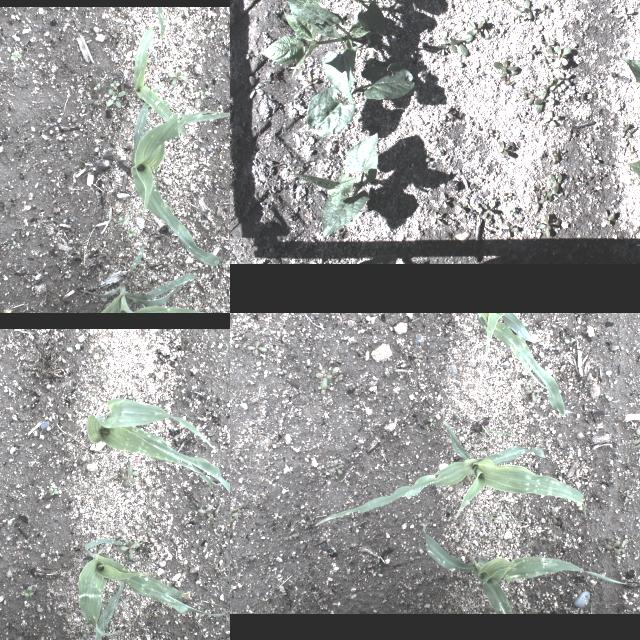crop: (316, 420, 588, 524), (424, 523, 626, 613), (132, 101, 230, 268), (86, 396, 230, 501), (78, 538, 230, 635), (73, 245, 230, 313), (304, 51, 414, 137), (290, 132, 378, 236), (476, 313, 566, 414), (260, 0, 384, 70), (133, 23, 175, 125), (70, 580, 124, 640), (156, 6, 167, 36)
weed: (524, 85, 554, 111), (163, 66, 191, 86), (438, 28, 460, 52), (118, 538, 142, 560), (538, 211, 558, 237), (466, 15, 488, 37), (449, 36, 473, 56), (120, 466, 140, 490), (105, 89, 127, 109), (542, 172, 562, 194), (493, 60, 519, 76), (552, 45, 570, 67), (6, 47, 30, 63), (248, 74, 264, 98), (604, 538, 628, 554), (542, 109, 562, 127), (524, 382, 542, 402), (316, 368, 332, 390), (105, 22, 121, 42), (501, 222, 521, 238), (248, 340, 268, 356), (483, 514, 522, 522), (522, 0, 537, 20), (481, 424, 511, 434), (199, 78, 211, 102), (88, 92, 102, 112), (603, 208, 617, 228), (230, 500, 244, 520), (198, 504, 215, 518), (527, 195, 545, 208), (304, 70, 318, 86), (440, 105, 454, 121), (330, 458, 344, 474), (543, 76, 555, 94), (497, 139, 509, 157), (616, 8, 636, 18), (536, 53, 556, 63), (482, 202, 496, 216), (538, 2, 552, 16), (558, 70, 572, 84), (622, 488, 634, 504), (438, 190, 448, 208), (129, 388, 139, 406), (121, 226, 137, 237), (545, 39, 557, 53), (550, 76, 562, 90), (585, 152, 599, 164), (333, 367, 343, 383), (108, 77, 126, 85), (23, 586, 35, 598), (631, 428, 640, 444), (432, 212, 442, 226), (622, 122, 632, 136), (142, 523, 152, 537), (550, 508, 558, 524), (116, 217, 130, 226), (526, 44, 534, 58), (568, 335, 582, 343), (456, 202, 466, 212), (438, 44, 448, 54), (48, 486, 58, 496), (514, 10, 522, 22), (52, 436, 64, 444), (284, 534, 300, 540), (252, 429, 264, 437), (243, 552, 254, 560), (506, 207, 516, 215), (245, 48, 253, 58), (484, 127, 494, 135), (632, 225, 640, 234), (503, 192, 512, 200), (104, 591, 110, 603), (428, 417, 437, 425), (240, 401, 248, 409), (546, 156, 556, 162), (604, 394, 612, 401), (550, 0, 561, 5), (84, 630, 90, 638), (332, 546, 338, 554), (264, 330, 270, 336), (114, 606, 118, 614), (112, 503, 120, 507), (12, 490, 16, 498), (8, 389, 12, 396), (10, 516, 16, 520), (240, 456, 244, 462), (502, 398, 506, 404), (17, 636, 22, 640), (552, 356, 558, 359), (230, 366, 232, 373), (464, 313, 473, 314)
